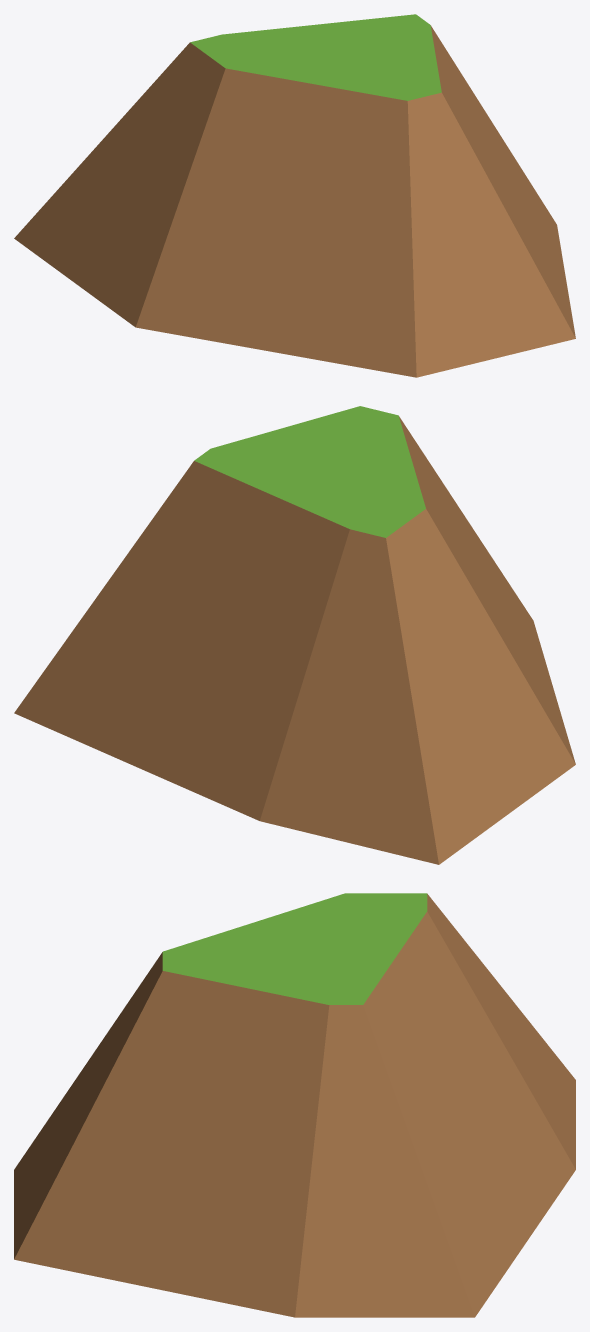
File: rock_smallB.glb
3 renders of one model, top to bottom at view 1: azimuth 30°, elevation 25°; view 2: azimuth 150°, elevation 25°; view 3: azimuth 270°, elevation 25°, orthographic. The views are drawn at different scales.
Visible parts, largest first — view 1: rock_smallB; view 2: rock_smallB; view 3: rock_smallB.
Part boxes in pixels (x1,y1,x2,y2): rock_smallB: (14,14,575,377); rock_smallB: (14,406,575,864); rock_smallB: (14,893,575,1317).
Size of the model in its own units: 0.3608 by 0.1768 by 0.3608.
